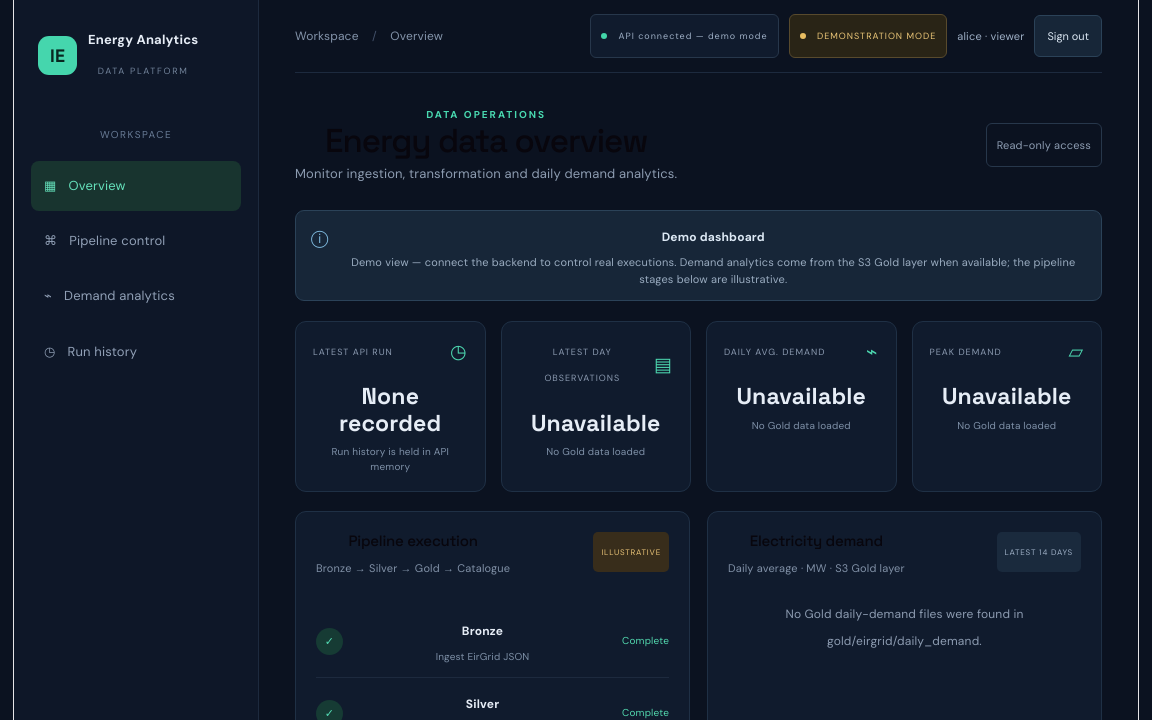
Scenario: signed-in state › signs out and returns to the sign-in screen
Click the button "Sign out".
click(1068, 36)  # box [1034,15,1102,57]
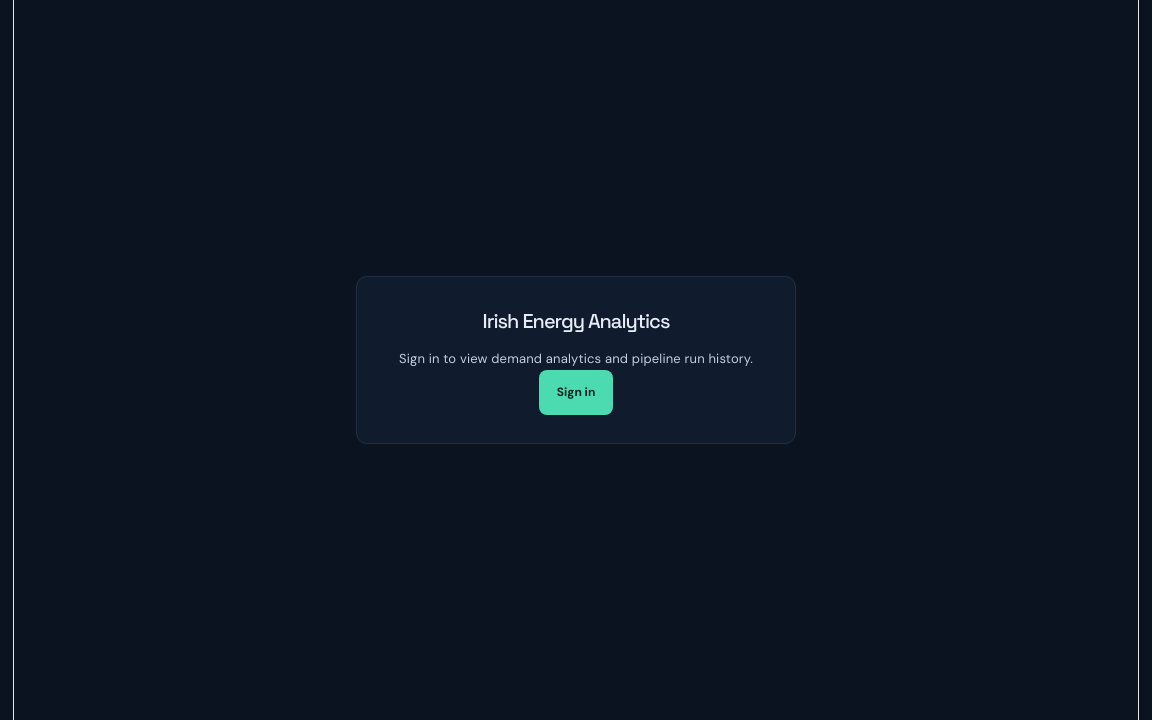
Expected: the heading "Energy data overview" is not shown
Expected: the button "Sign in" is shown, [539,370,613,415]
